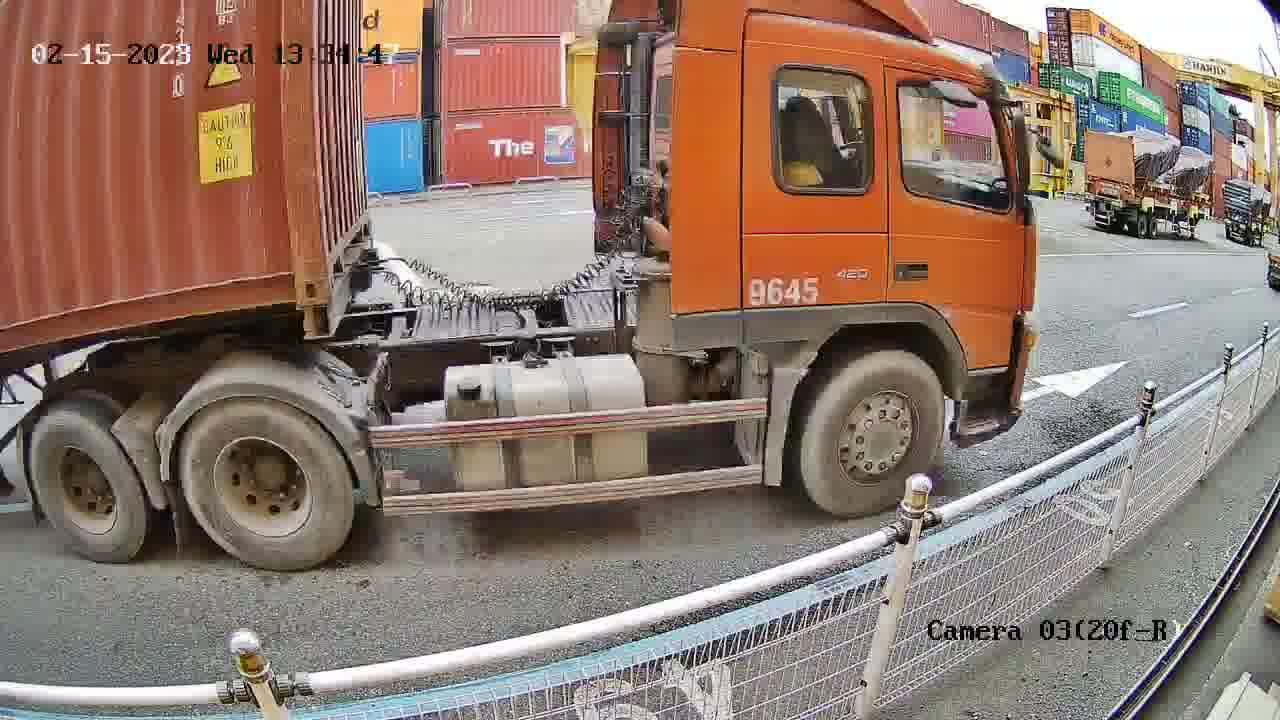Chassis: (328, 237, 377, 336)
Cone: (297, 306, 334, 339)
Hole_L: (323, 219, 352, 301)
Hole_R: (262, 243, 330, 307)
Tire: (180, 396, 355, 568), (805, 355, 941, 507), (28, 411, 144, 559)
